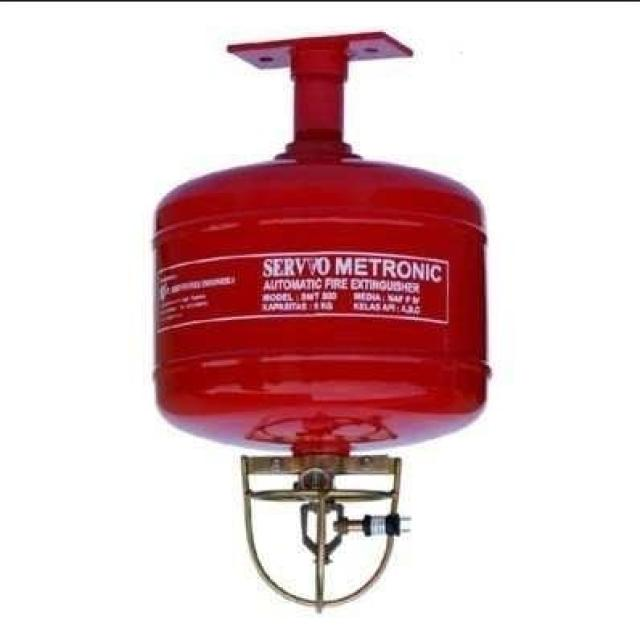fire_extinguisher: (144, 143, 499, 616)
